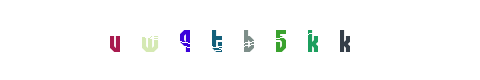5: (208, 0, 288, 80)
9: (145, 0, 225, 80)
B: (200, 0, 280, 80)
K: (256, 0, 336, 80), (304, 0, 384, 80)
T: (176, 0, 256, 80)
U: (75, 0, 155, 80)
W: (135, 0, 215, 80)
